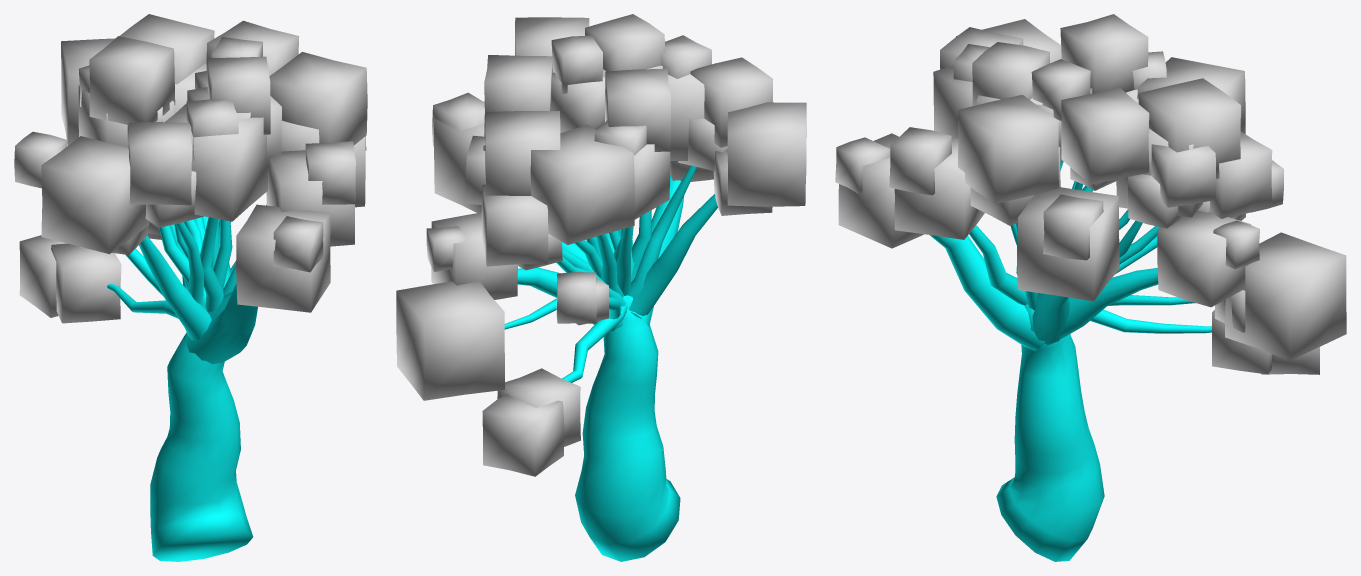
Rendered from MarcoTree1.fbx.
The picture shows the model from 3 angles, left to right: view 1: azimuth 30°, elevation 25°; view 2: azimuth 150°, elevation 25°; view 3: azimuth 270°, elevation 25°; orthographic projection.
Visible parts, largest first — view 1: merge1; view 2: merge1; view 3: merge1.
Part boxes in pixels (x1,y1,x2,y2): merge1: (14, 14, 367, 561); merge1: (396, 14, 806, 561); merge1: (835, 14, 1346, 561).
Size of the model in its own units: 15.73 by 21.98 by 20.1.
